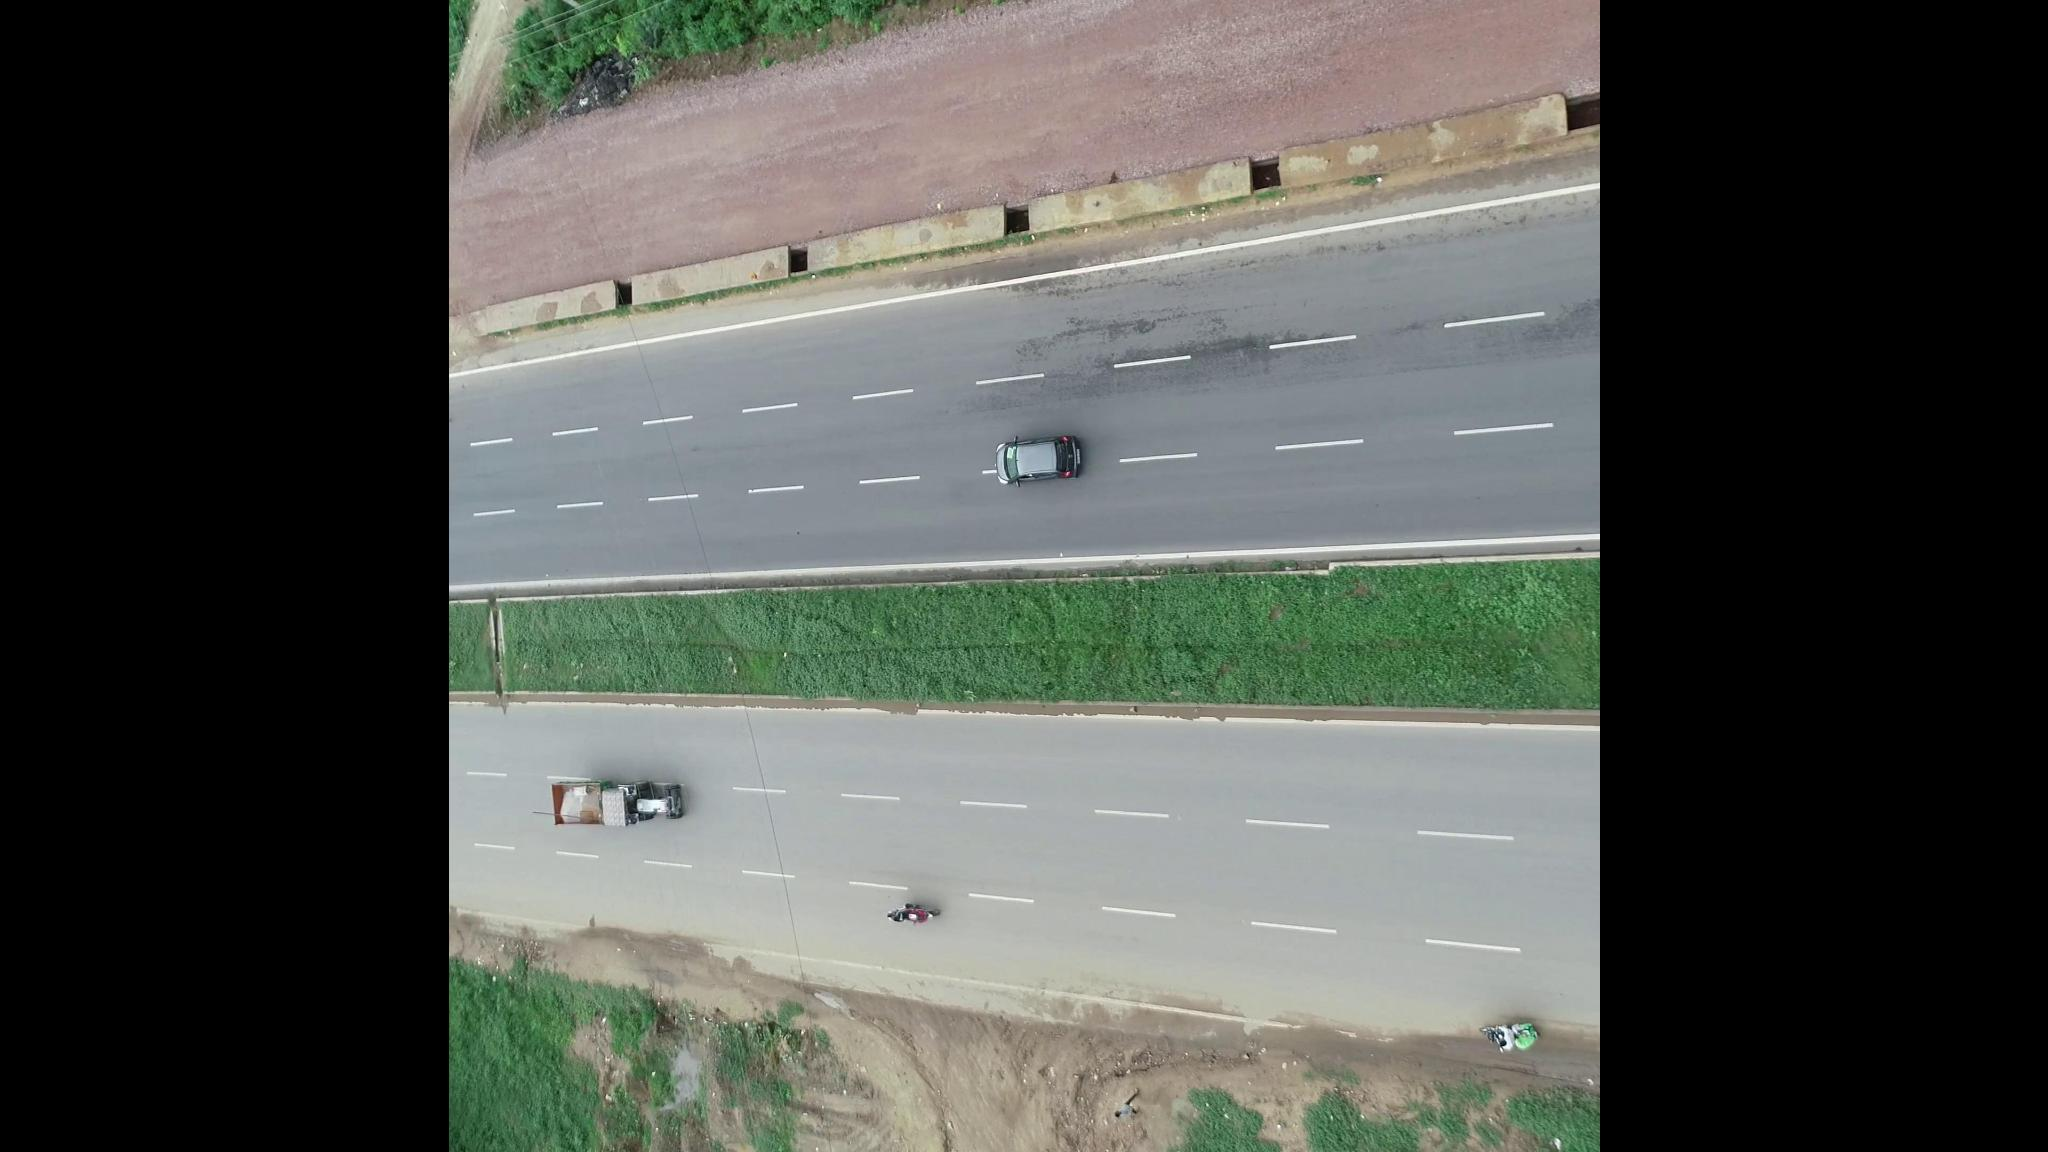Ravelling: (1010, 305, 1266, 430)
